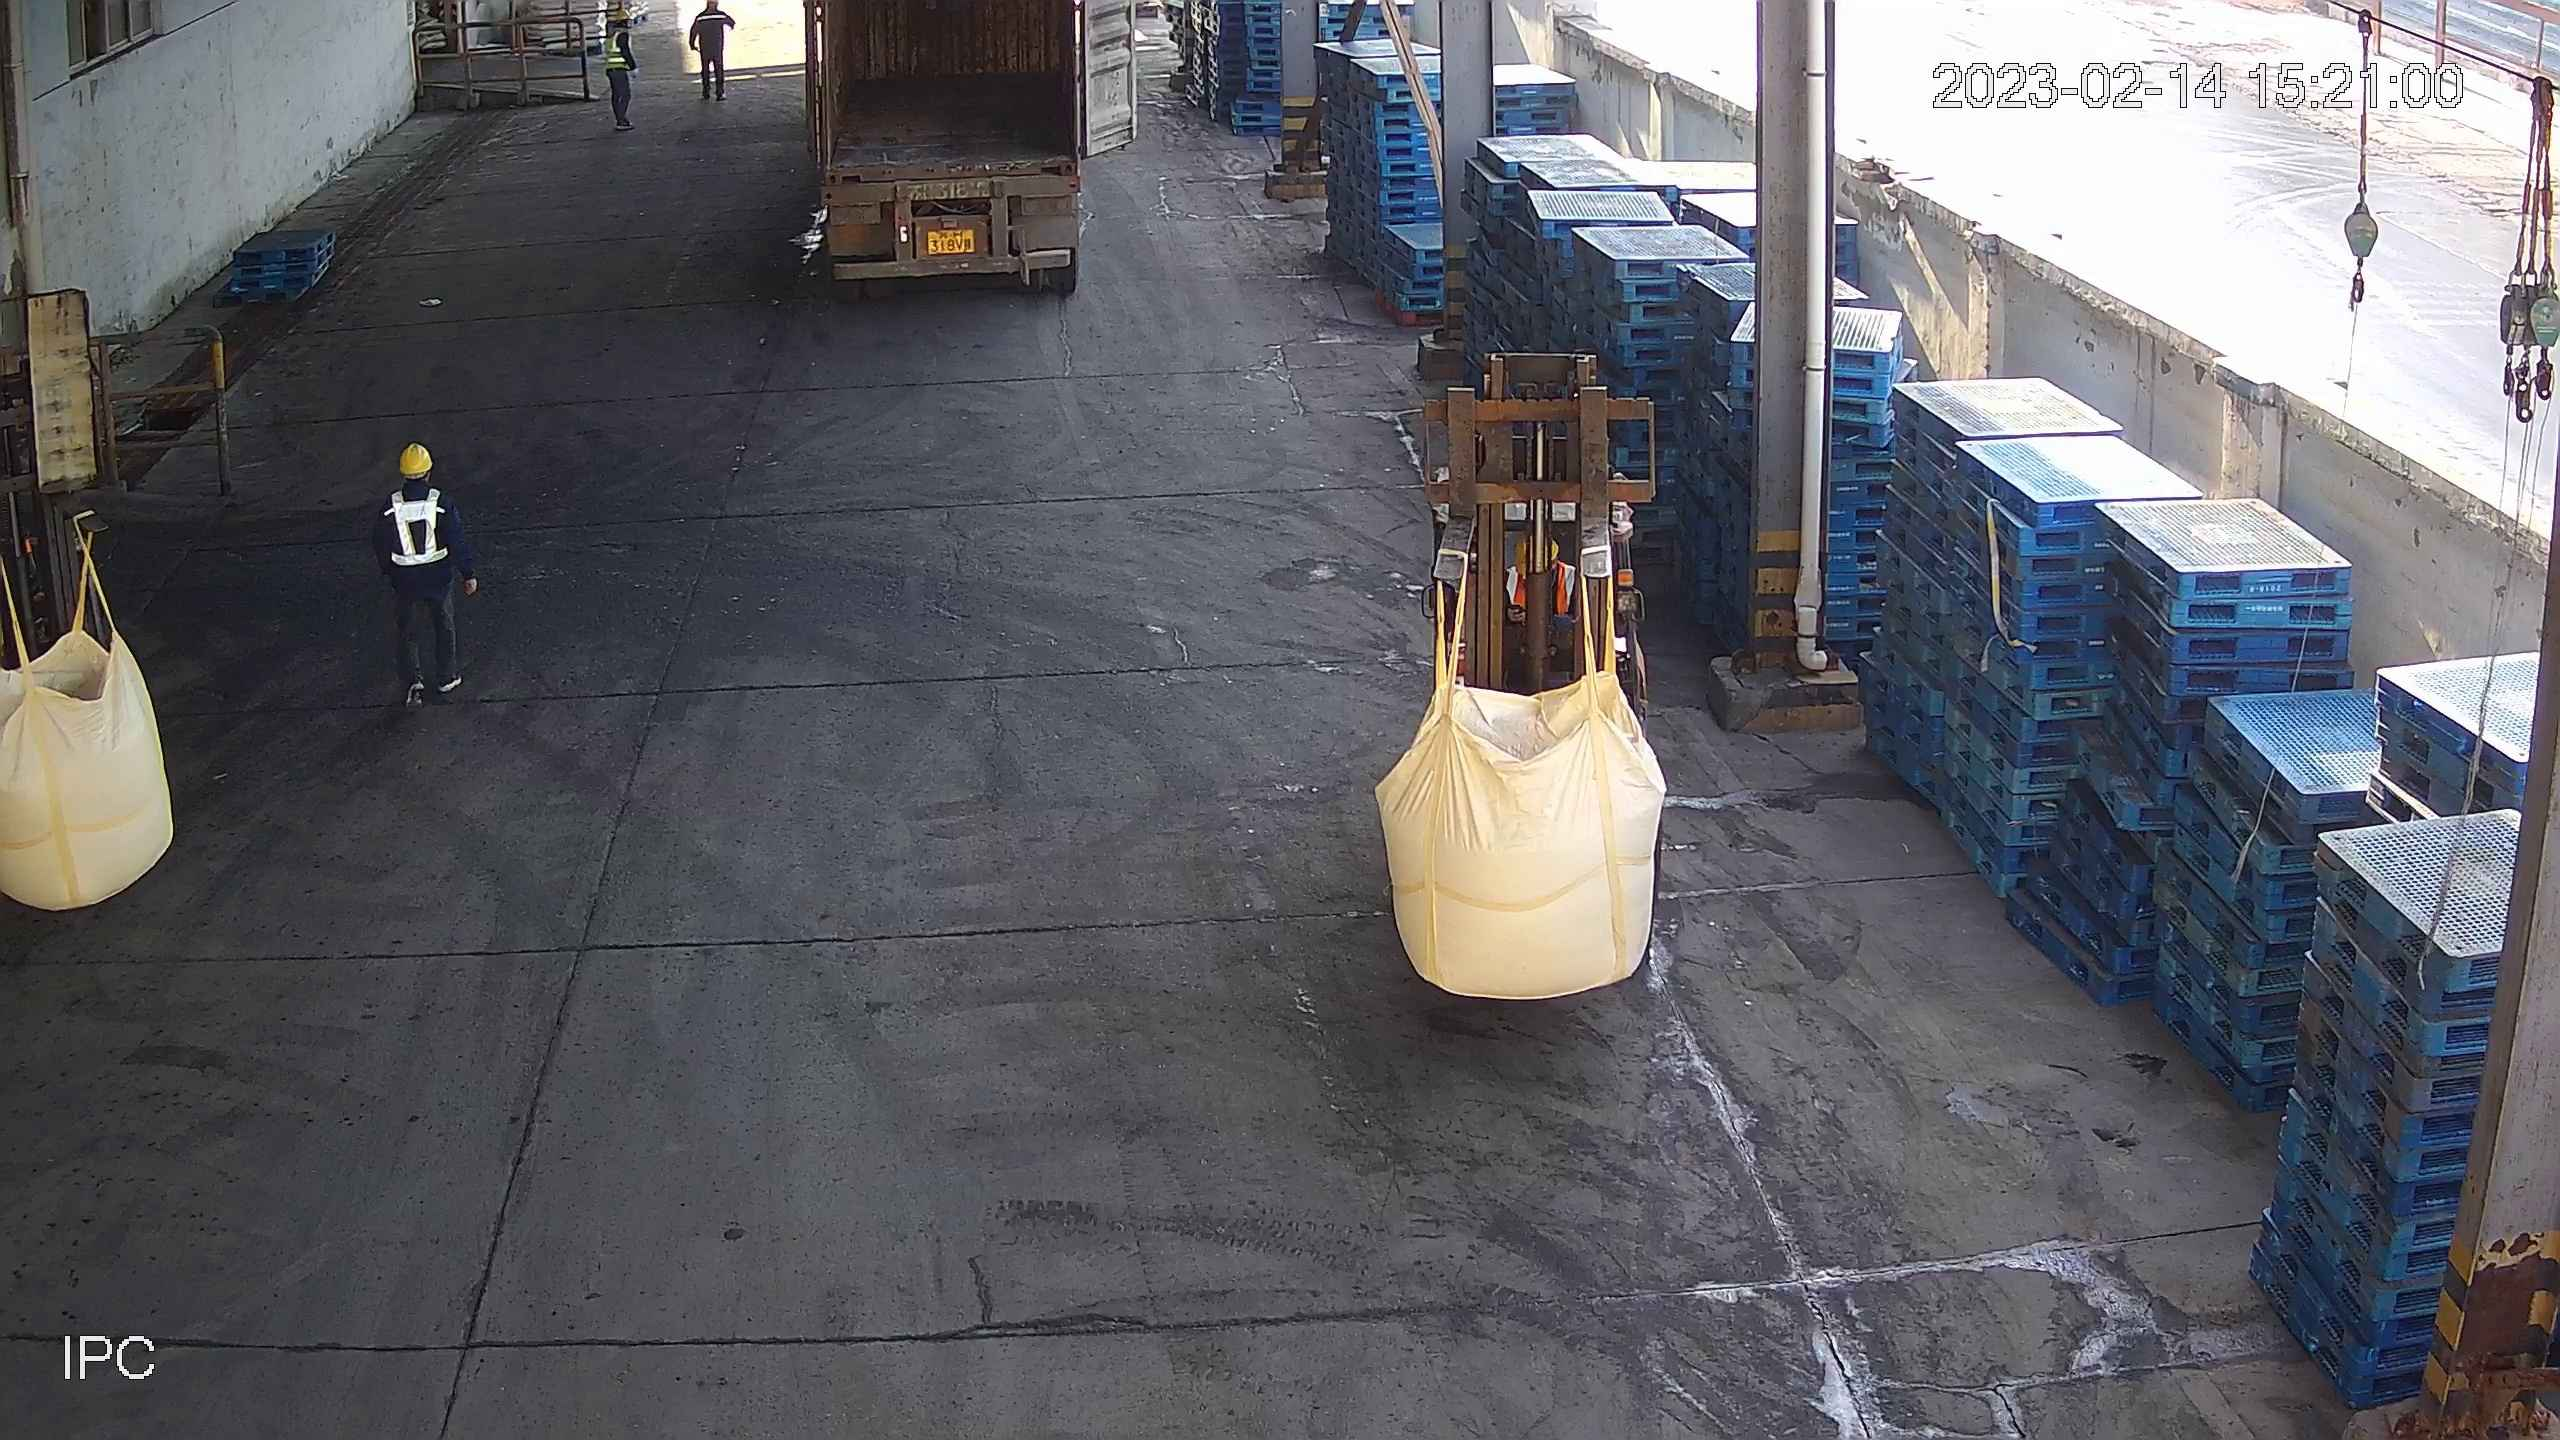head: (375, 440, 463, 536)
helmet: (1515, 533, 1559, 573), (400, 439, 433, 477), (615, 8, 629, 21)
people: (374, 439, 479, 710), (602, 8, 641, 130), (691, 1, 735, 102)
truck: (800, 1, 1132, 300)
